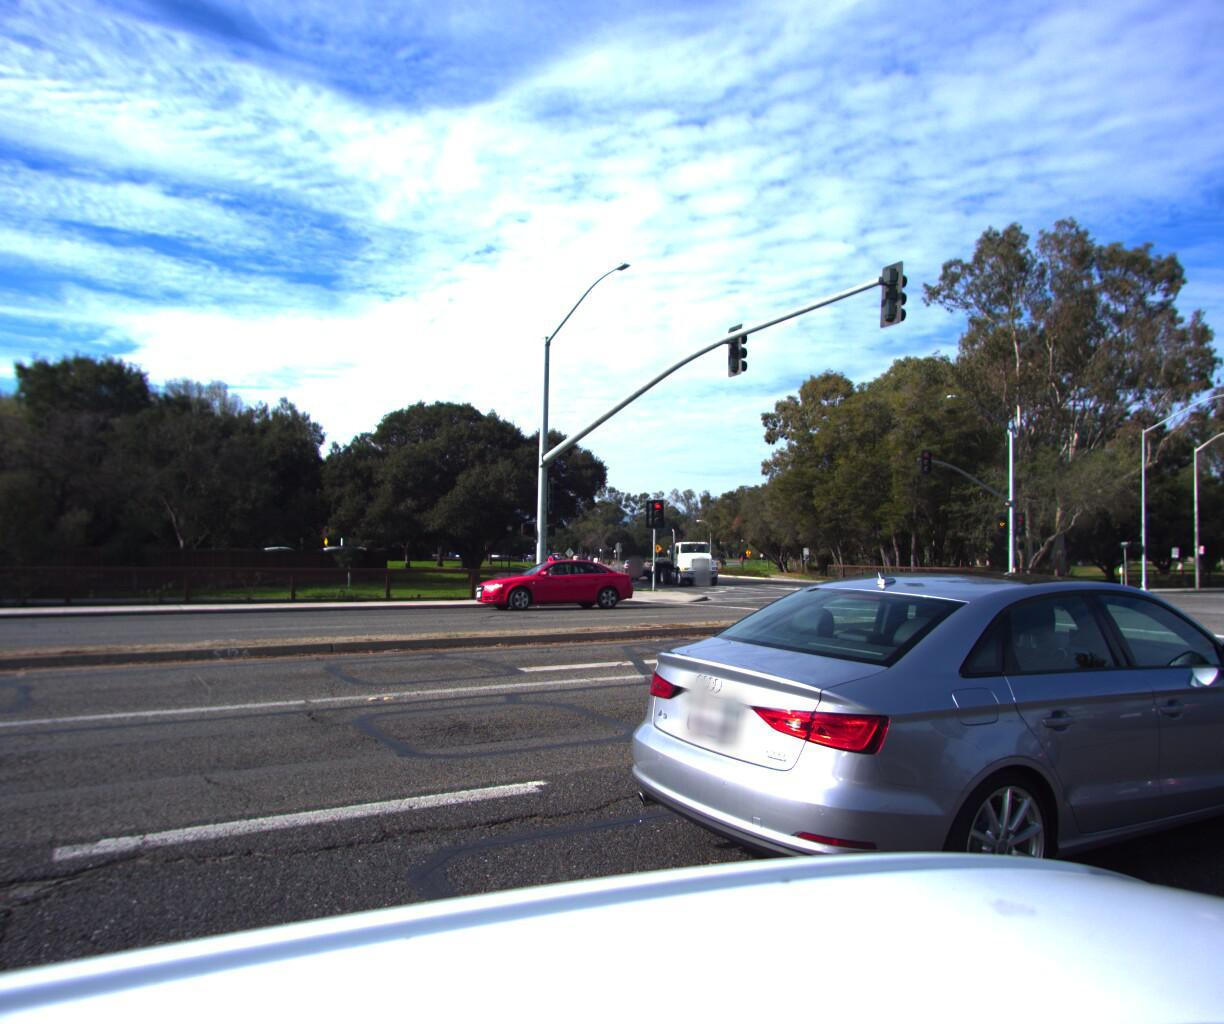car: (633, 567, 1224, 966), (461, 551, 635, 606), (304, 541, 371, 566), (243, 542, 300, 564)
truck: (618, 526, 722, 587)
